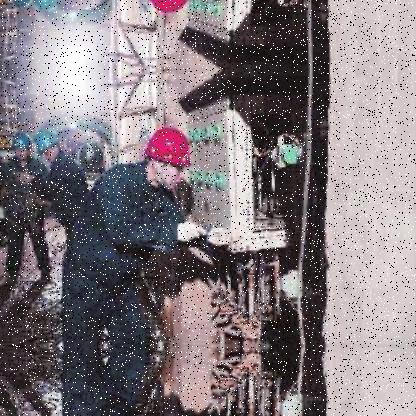Helmet: (146, 121, 194, 192), (36, 131, 66, 161), (9, 129, 36, 160)
